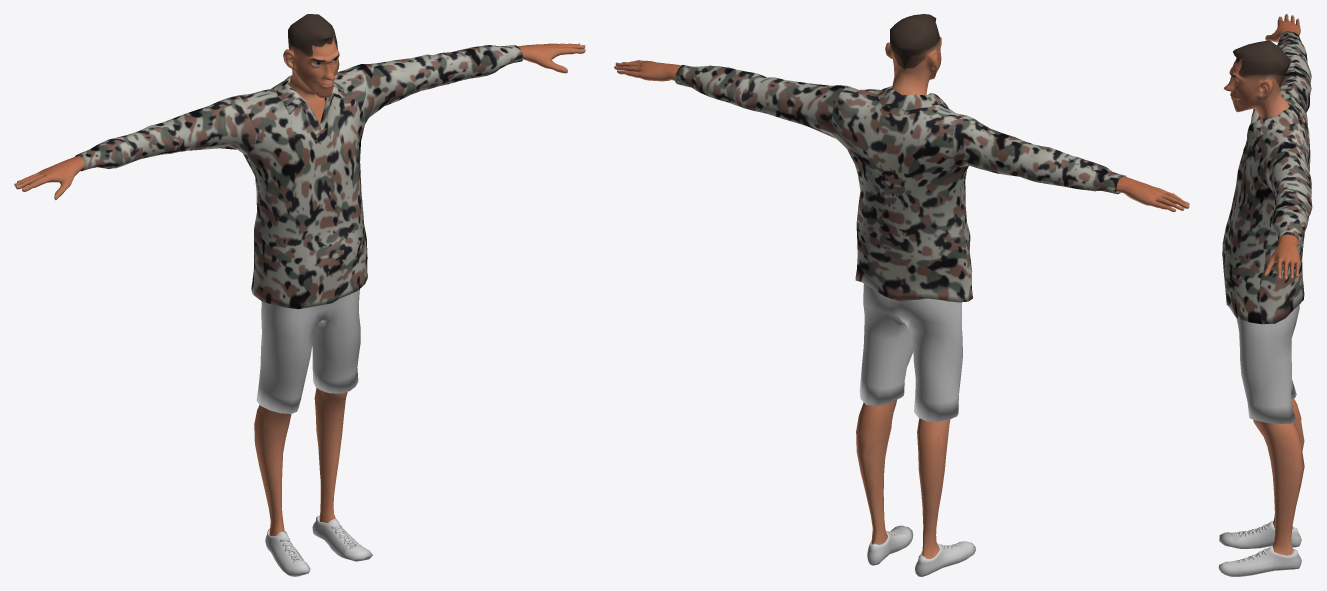
The model's file is Oper.obj.
3 renders of one model, left to right at view 1: azimuth 30°, elevation 25°; view 2: azimuth 150°, elevation 25°; view 3: azimuth 270°, elevation 25°, orthographic. The views are drawn at different scales.
Parts seen in each view (by area): view 1: Tops, Body, Bottoms, Shoes; view 2: Tops, Body, Bottoms, Shoes; view 3: Tops, Body, Bottoms, Shoes.
Boxes of the visible parts, left/top/right/bottom form: Tops: left=75, top=45, right=523, bottom=309; Body: left=14, top=14, right=585, bottom=535; Bottoms: left=256, top=289, right=360, bottom=413; Shoes: left=265, top=516, right=372, bottom=576; Tops: left=674, top=65, right=1126, bottom=302; Body: left=614, top=14, right=1189, bottom=558; Bottoms: left=859, top=284, right=962, bottom=421; Shoes: left=867, top=525, right=975, bottom=576; Tops: left=1222, top=31, right=1312, bottom=324; Body: left=1224, top=14, right=1304, bottom=555; Bottoms: left=1236, top=304, right=1299, bottom=423; Shoes: left=1218, top=521, right=1301, bottom=576.
Size of the model in its own units: 193 by 174 by 28.73.
